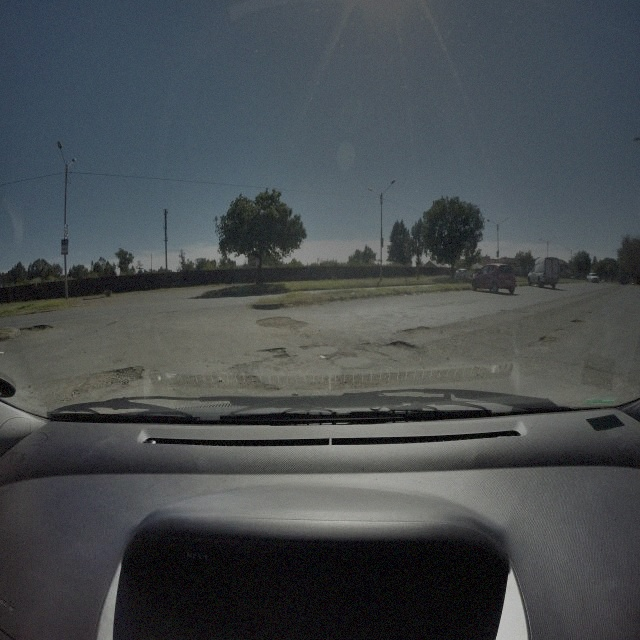pothole: (73, 363, 144, 398), (254, 314, 307, 331), (258, 346, 288, 362), (22, 323, 55, 334), (390, 342, 416, 354), (539, 331, 557, 342), (402, 328, 430, 333), (572, 317, 584, 323), (587, 310, 591, 314)
